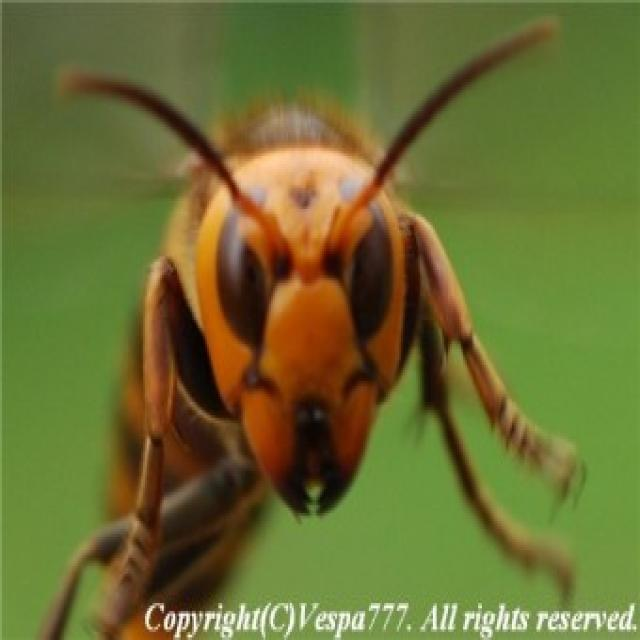-: (60, 11, 596, 610)
